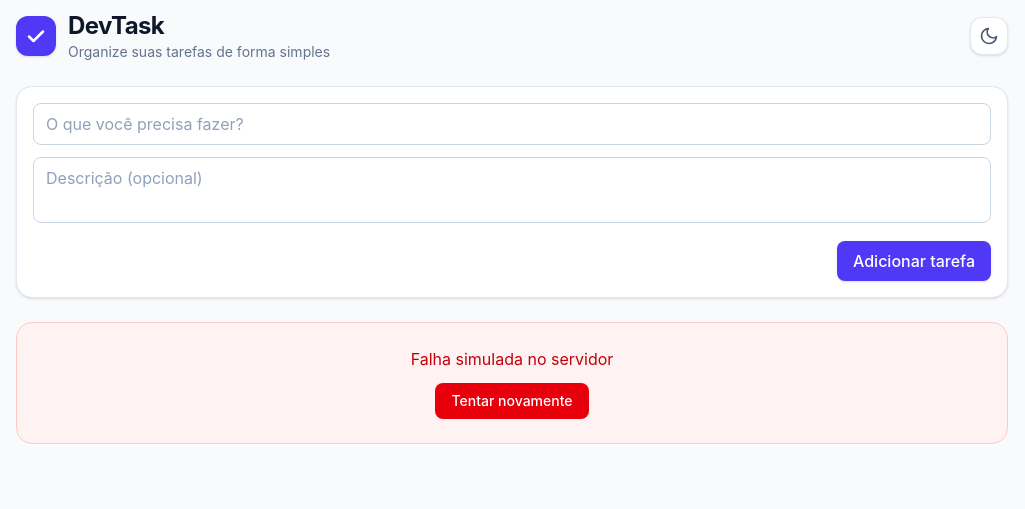
Scenario: App › mostra erro ao carregar e permite tentar novamente
Check: the text "Falha simulada no servidor" is shown, box [411,347,613,371]
Click the button "Tentar novamente" at (512, 401), box [436,383,589,419]
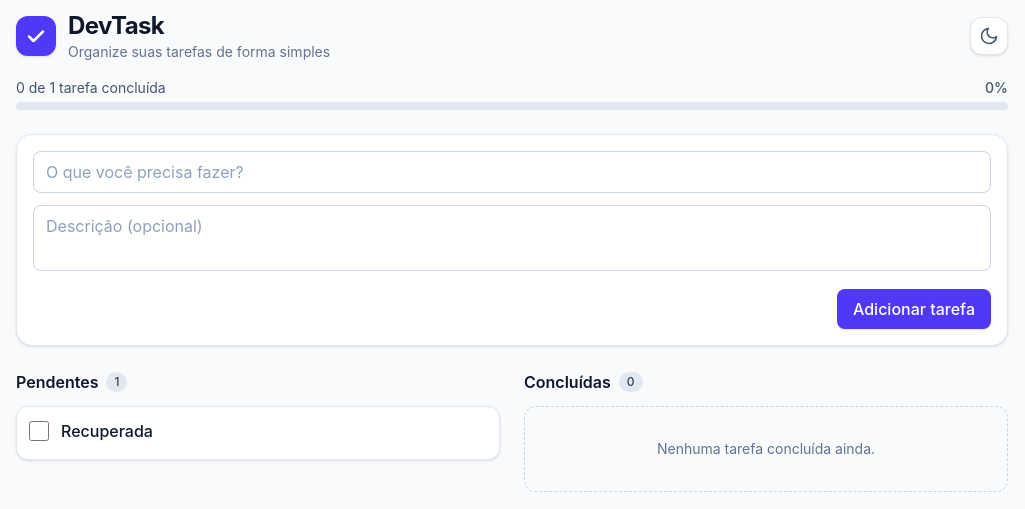
Check: the text "Recuperada" is shown, box [61,421,153,441]
